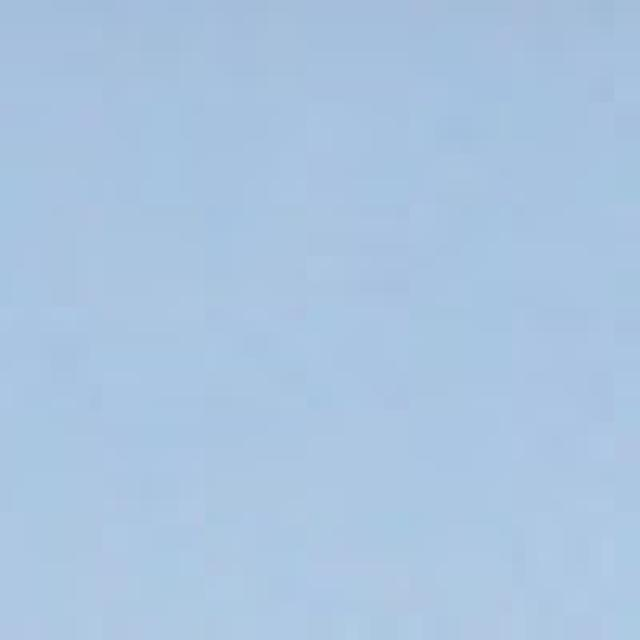no_fire: (21, 42, 610, 600)
